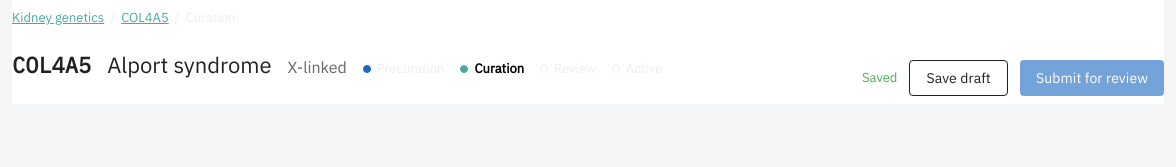
it: WorkspaceHeader › shows a reason when a blocked Submit without blockers is clicked
The image size is (1176, 167).
Click the button with test id "ws-submit" at (1092, 78), box [1020,60,1164,96]
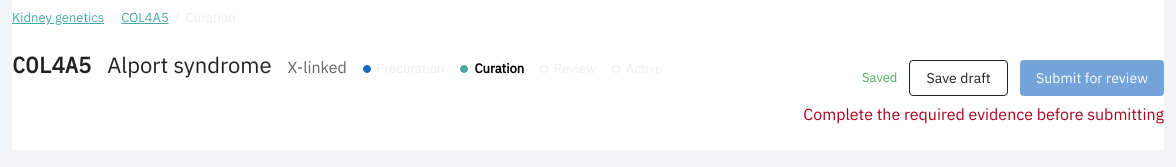
Expected: the text with test id "ws-blockers" reads "Complete the required evidence before submitting", [803,104,1164,124]
